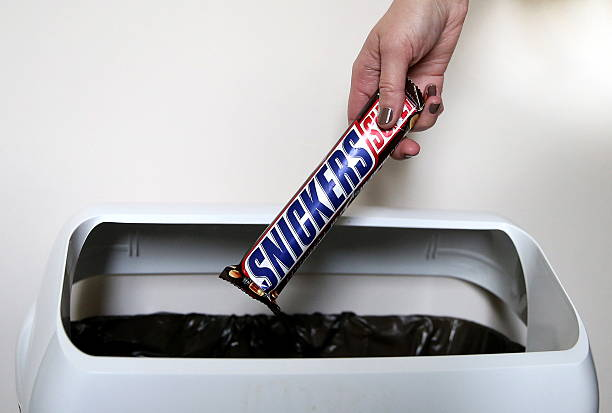snickers: (246, 127, 372, 296), (246, 127, 372, 293), (249, 127, 372, 296)
